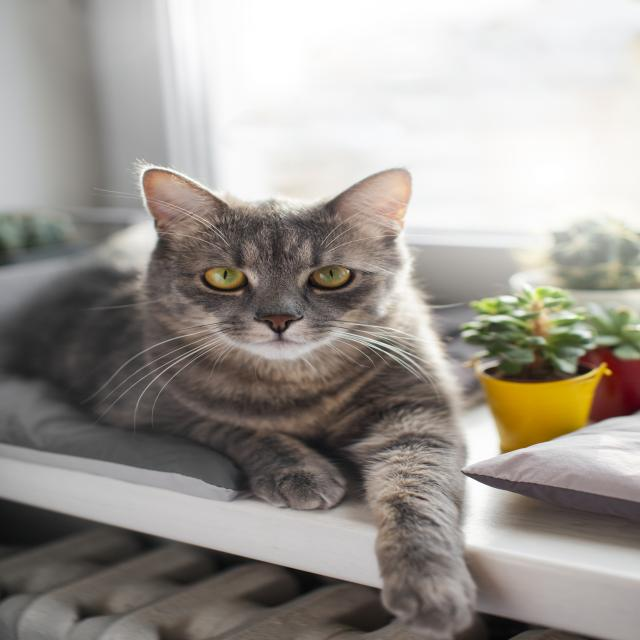cats-dogs: (0, 162, 479, 636)
